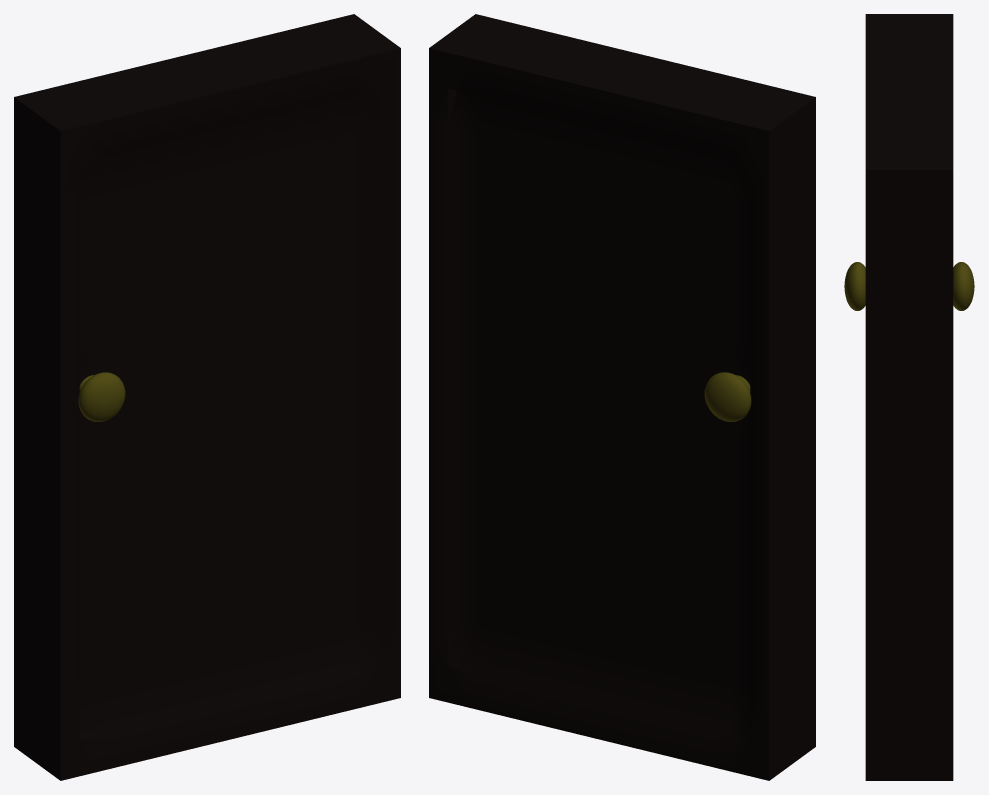
The model's file is Door.dae.
The picture shows the model from 3 angles, left to right: view 1: azimuth 30°, elevation 25°; view 2: azimuth 150°, elevation 25°; view 3: azimuth 270°, elevation 25°; orthographic projection. The views are drawn at different scales.
Visible parts, largest first — view 1: pCylinder3; view 2: pCylinder3; view 3: pCylinder3.
Boxes of the visible parts, x1,y1,x2,y2 form: pCylinder3: (14,14,400,780); pCylinder3: (429,14,815,780); pCylinder3: (844,14,974,780).
Bounding box in the file's own units: 4.21 × 7.69 × 1.48.
